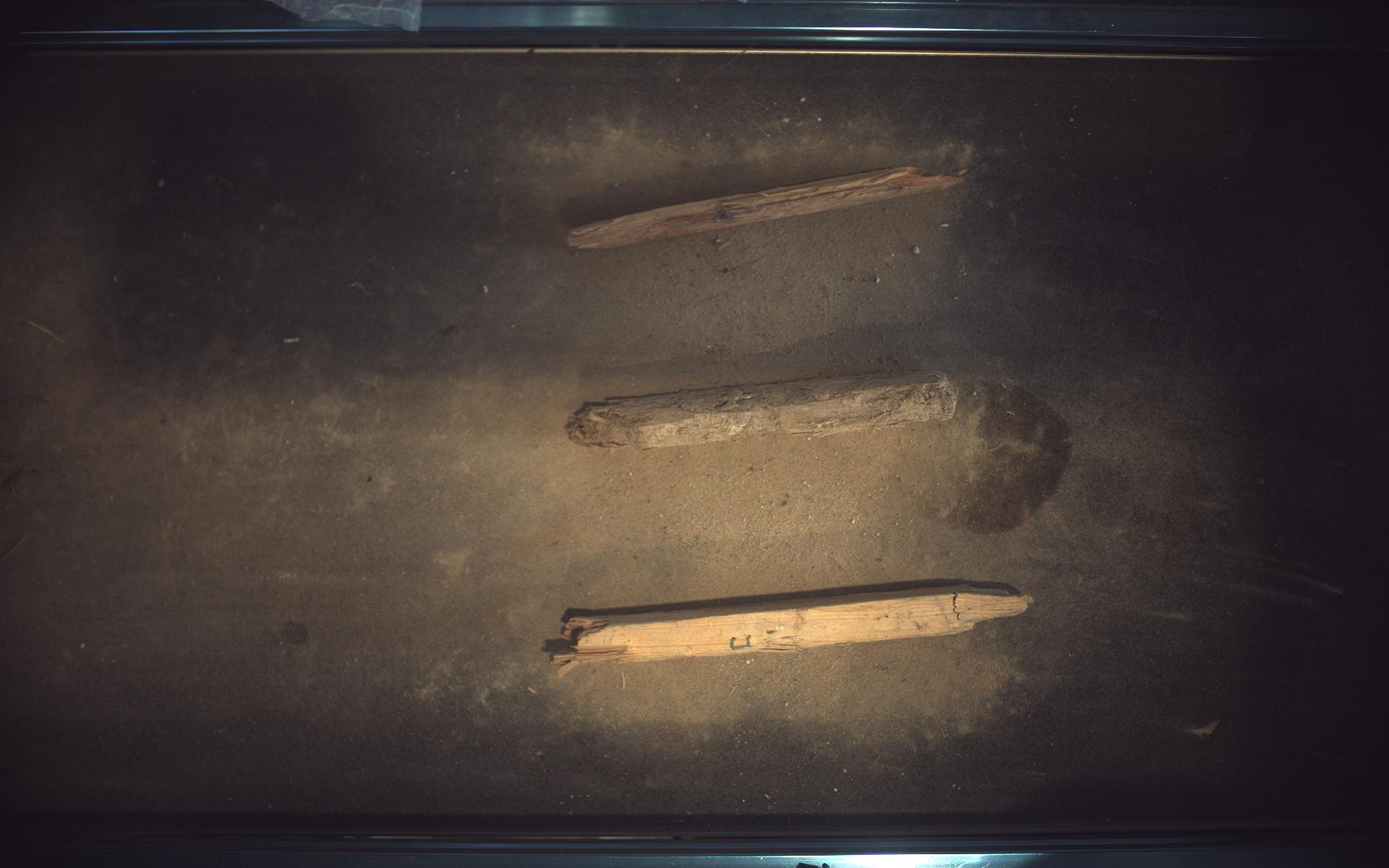wood: (545, 581, 1034, 678), (567, 165, 967, 249), (566, 372, 961, 448)
